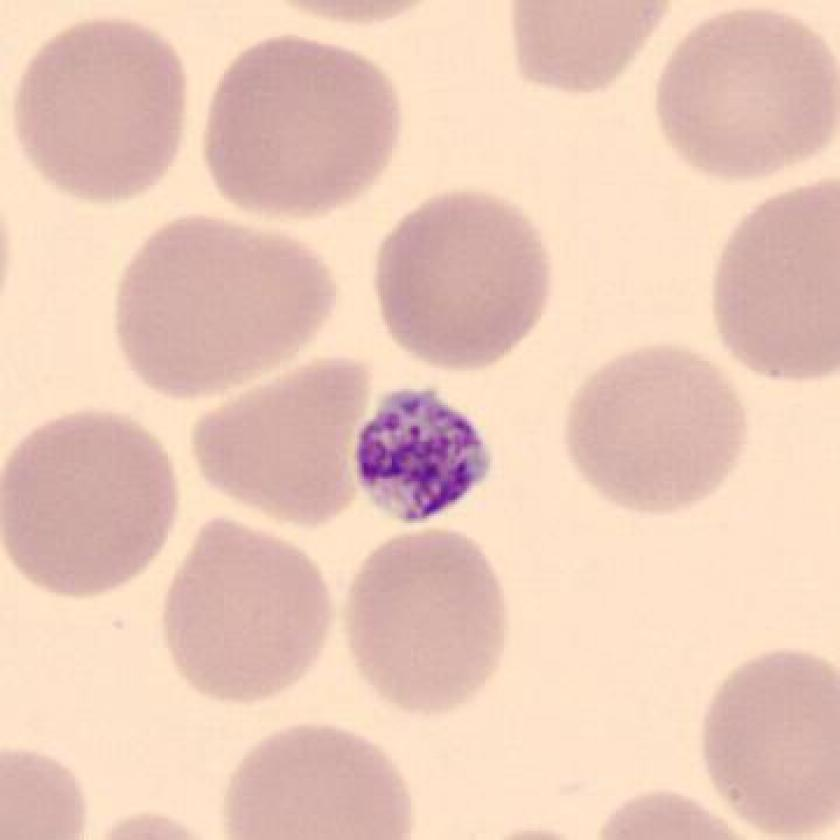platelets: (340, 376, 501, 538)
